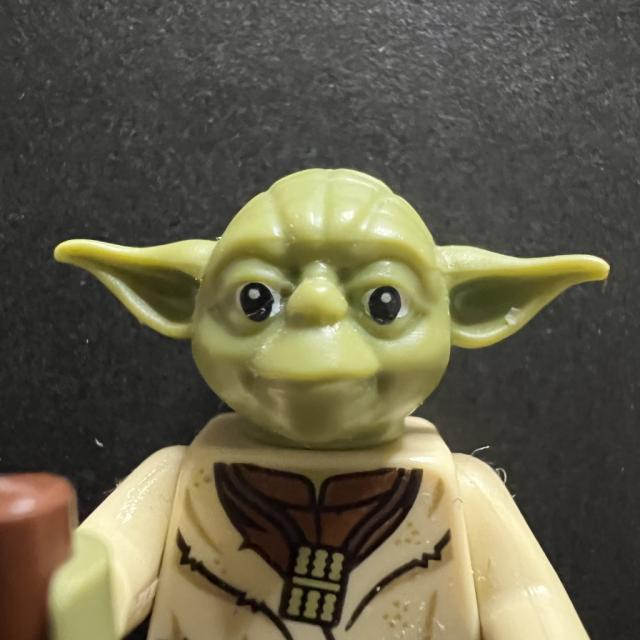alien: (40, 156, 602, 413)
